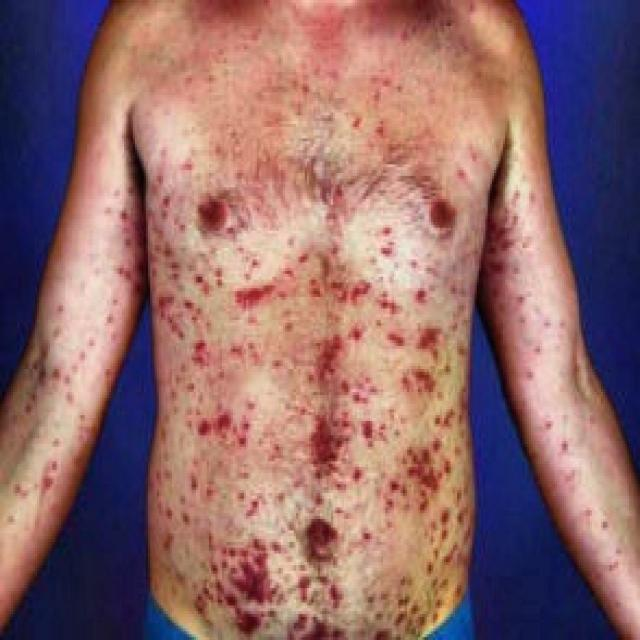Atopic-Dermatitis: (122, 99, 506, 640)
